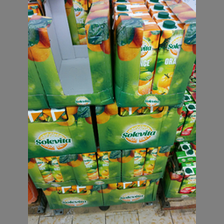juice: (116, 16, 160, 94), (149, 18, 183, 95)
